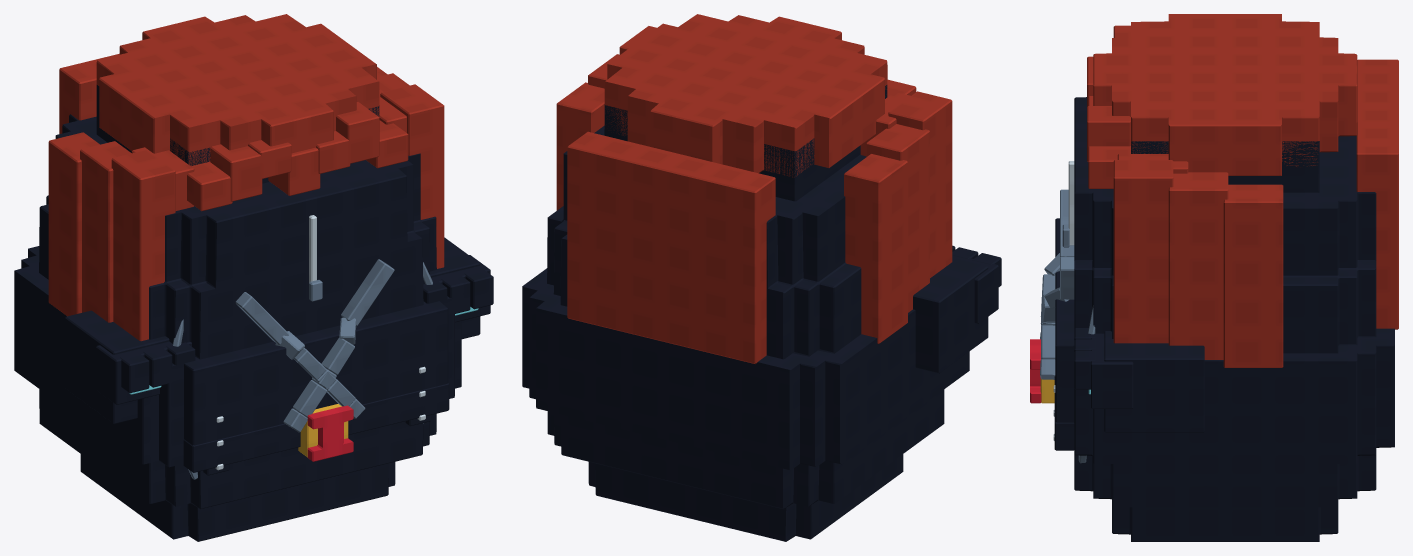
The model's file is BlackWidow_Egg.fbx.
The picture shows the model from 3 angles, left to right: view 1: azimuth 30°, elevation 25°; view 2: azimuth 150°, elevation 25°; view 3: azimuth 270°, elevation 25°; orthographic projection. The views are drawn at different scales.
Visible parts, largest first — view 1: BlackWidow_Egg; view 2: BlackWidow_Egg; view 3: BlackWidow_Egg.
Part boxes in pixels (box(x1,y1,x2,y2)): BlackWidow_Egg: box(14, 14, 493, 541); BlackWidow_Egg: box(522, 14, 1001, 541); BlackWidow_Egg: box(1030, 14, 1398, 541).
Size of the model in its own units: 308 by 320 by 256.
Materials: 7 (7 with a texture image).
